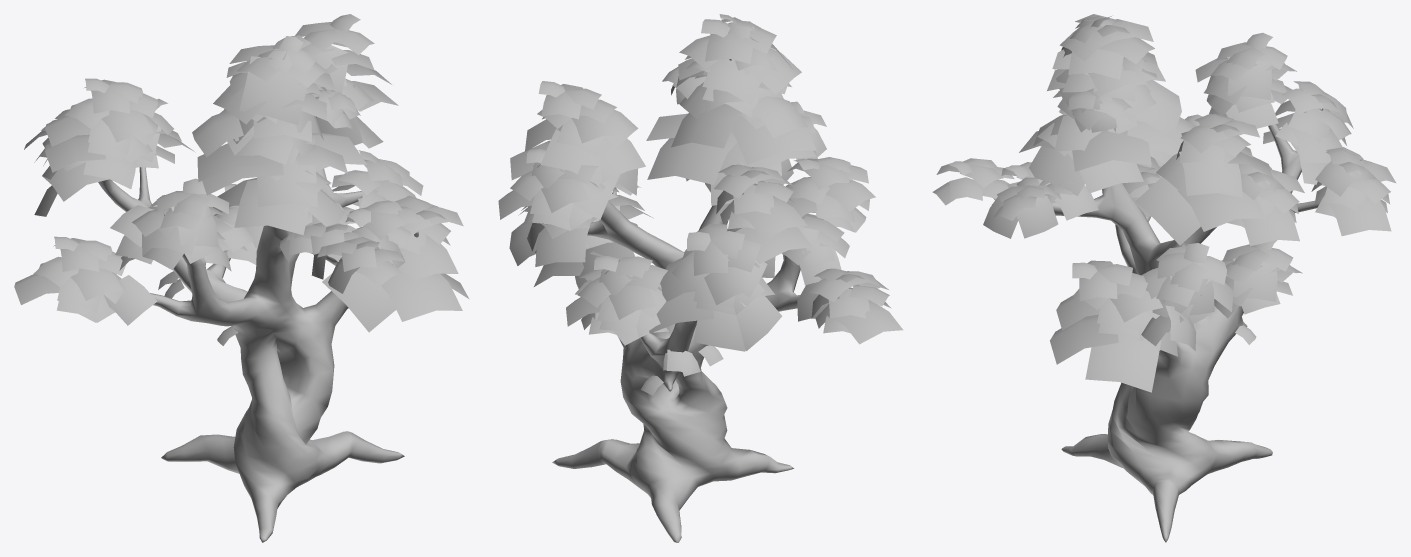
File: Char_Tree.glb
3 renders of one model, left to right at view 1: azimuth 30°, elevation 25°; view 2: azimuth 150°, elevation 25°; view 3: azimuth 270°, elevation 25°, orthographic. The views are drawn at different scales.
Visible parts, largest first — view 1: Char_Tree (×2); view 2: Char_Tree (×2); view 3: Char_Tree (×2).
Part boxes in pixels (x1,y1,x2,y2): Char_Tree (×2): (14,14,469,542); Char_Tree (×2): (498,14,903,542); Char_Tree (×2): (932,14,1396,542).
Bounding box in the file's own units: 19.72 × 21.8 × 20.04.
Materials: 2 (2 with a texture image).
